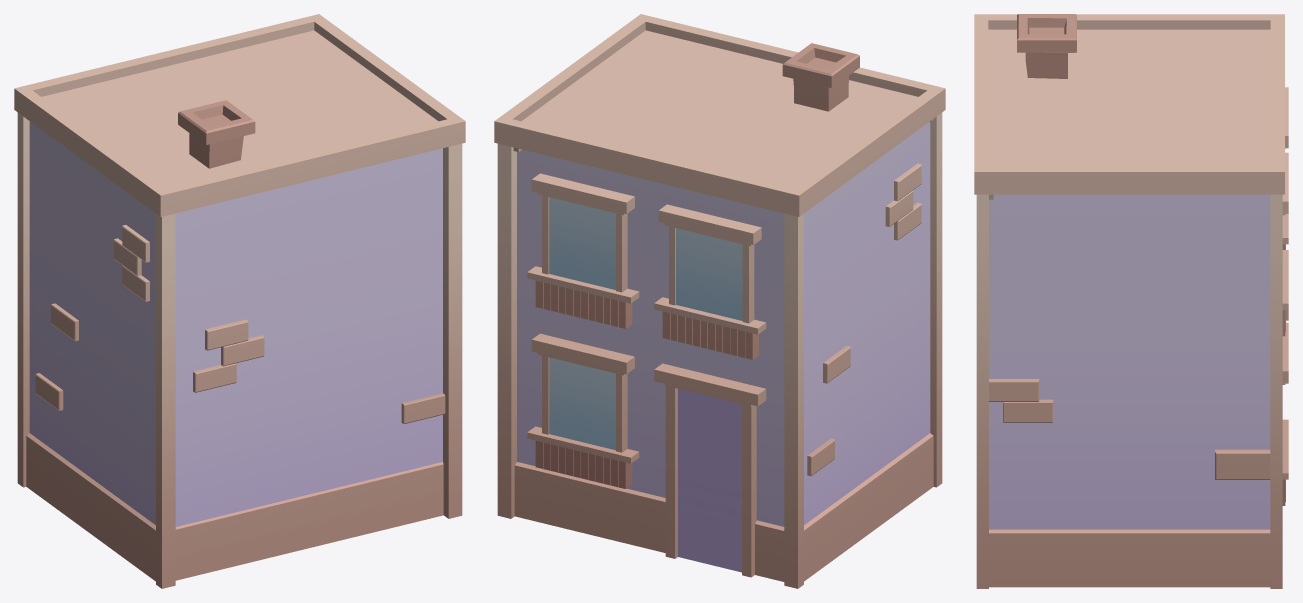
Rendered from Gebäude_10.glb.
3 renders of one model, left to right at view 1: azimuth 30°, elevation 25°; view 2: azimuth 150°, elevation 25°; view 3: azimuth 270°, elevation 25°, orthographic. The views are drawn at different scales.
Visible parts, largest first — view 1: Box.446; view 2: Box.446; view 3: Box.446.
Boxes of the visible parts, x1,y1,x2,y2 form: Box.446: [14, 14, 465, 588]; Box.446: [494, 14, 945, 588]; Box.446: [974, 14, 1288, 588].
Bounding box in the file's own units: 3.75 × 5.02 × 3.16.
Materials: 1 (1 with a texture image).
